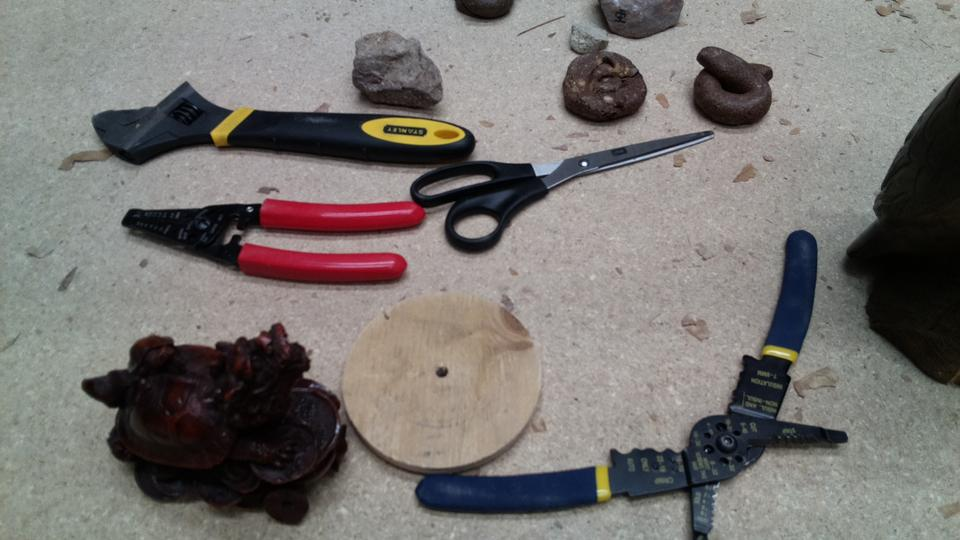poop: (691, 42, 775, 130), (560, 48, 650, 126), (452, 1, 517, 23)
